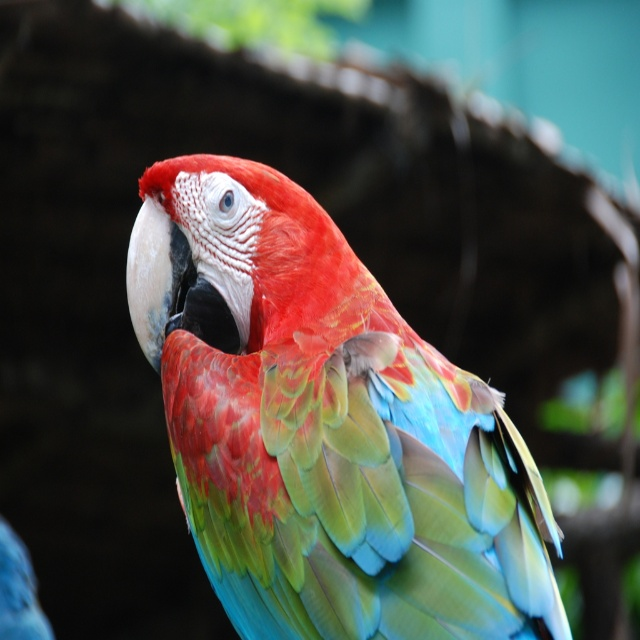Parrot: (124, 150, 572, 639)
